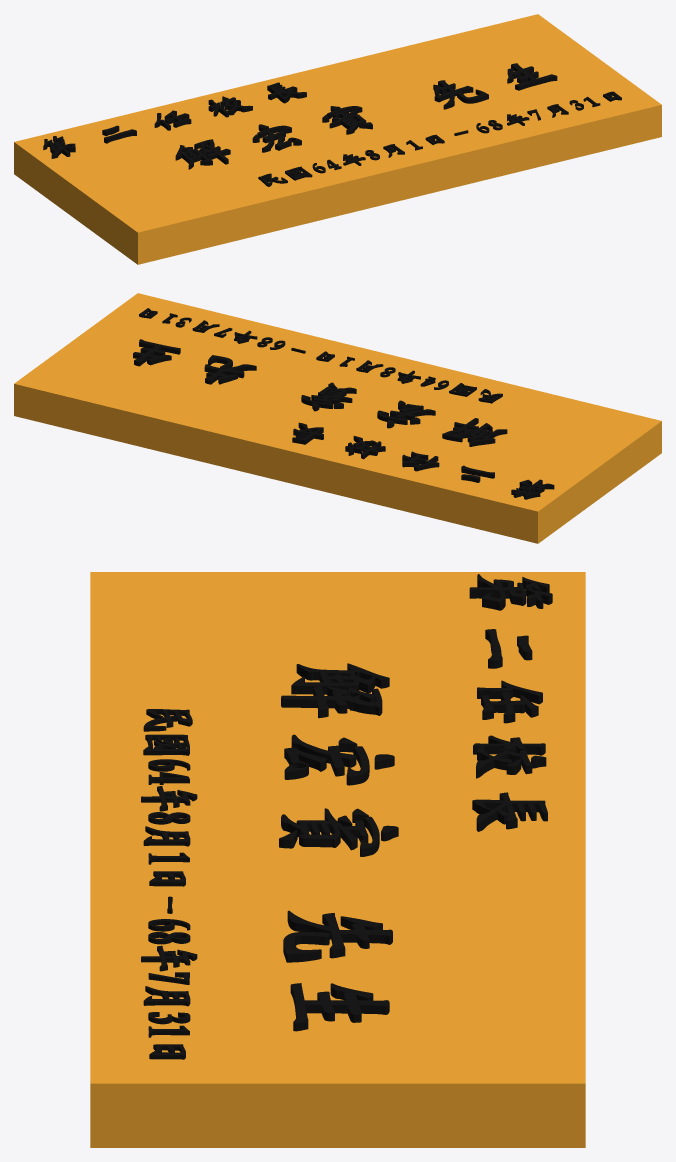
The model's file is 第二任.FBX.
3 views of the same model, one above another, from view 1: azimuth 30°, elevation 25°; view 2: azimuth 150°, elevation 25°; view 3: azimuth 270°, elevation 25° (orthographic). The views are drawn at different scales.
Visible parts, largest first — view 1: Box001, Text004, Text003, Text002; view 2: Box001, Text004, Text003, Text002; view 3: Box001, Text004, Text002, Text003.
Boxes of the visible parts, bbox=[...] form: Box001: bbox=[14, 14, 661, 264]; Text004: bbox=[175, 63, 557, 169]; Text003: bbox=[43, 82, 306, 158]; Text002: bbox=[258, 91, 621, 186]; Box001: bbox=[14, 293, 661, 543]; Text004: bbox=[133, 339, 507, 446]; Text003: bbox=[292, 422, 554, 499]; Text002: bbox=[139, 308, 502, 403]; Box001: bbox=[90, 572, 585, 1147]; Text004: bbox=[279, 663, 398, 1031]; Text002: bbox=[141, 709, 197, 1059]; Text003: bbox=[469, 574, 552, 831].
Size of the model in its own units: 469 by 31.16 by 192.
